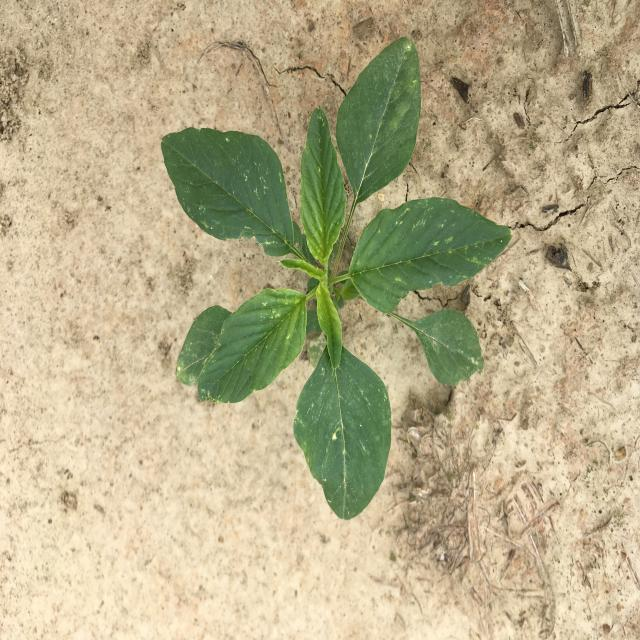PalmerAmaranth: (160, 35, 512, 522)
